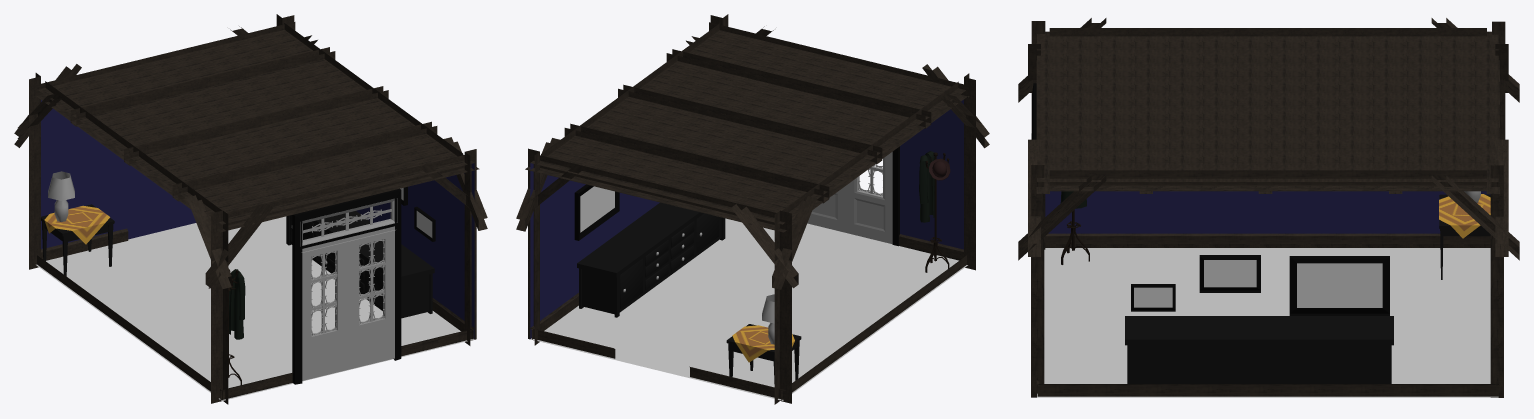
File: Hall_GEO.FBX
The picture shows the model from 3 angles, left to right: view 1: azimuth 30°, elevation 25°; view 2: azimuth 150°, elevation 25°; view 3: azimuth 270°, elevation 25°; orthographic projection. The views are drawn at different scales.
Visible parts, largest first — view 1: Hall_GEO, Vigas_Hall, Door_Hall, Cajonera_002, Mesa_005_GEO, Abrigo_GEO, Lampara_mesa_GEO, Cuadros_Hall_GEO; view 2: Hall_GEO, Vigas_Hall, Cajonera_002, Door_Hall, Cuadros_Hall_GEO, Mesa_005_GEO, Abrigo_GEO, Cajonera_002_01_TRG, Perchero_GEO, Lampara_mesa_GEO; view 3: Hall_GEO, Vigas_Hall, Cajonera_002, Cuadros_Hall_GEO, Mesa_005_GEO.
Boxes of the visible parts, left/top/right/bottom form: Hall_GEO: left=36, top=29, right=474, bottom=400; Vigas_Hall: left=14, top=14, right=487, bottom=404; Door_Hall: left=292, top=188, right=401, bottom=384; Cajonera_002: left=286, top=211, right=434, bottom=318; Mesa_005_GEO: left=41, top=204, right=114, bottom=276; Abrigo_GEO: left=229, top=269, right=245, bottom=339; Lampara_mesa_GEO: left=48, top=171, right=74, bottom=221; Cuadros_Hall_GEO: left=400, top=186, right=435, bottom=241; Hall_GEO: left=530, top=30, right=967, bottom=400; Vigas_Hall: left=516, top=14, right=989, bottom=404; Cajonera_002: left=577, top=202, right=725, bottom=317; Door_Hall: left=807, top=146, right=899, bottom=246; Cuadros_Hall_GEO: left=574, top=184, right=619, bottom=240; Mesa_005_GEO: left=726, top=324, right=801, bottom=383; Abrigo_GEO: left=919, top=151, right=934, bottom=222; Cajonera_002_01_TRG: left=620, top=258, right=642, bottom=308; Perchero_GEO: left=925, top=152, right=949, bottom=272; Lampara_mesa_GEO: left=762, top=294, right=774, bottom=344; Hall_GEO: left=1037, top=31, right=1498, bottom=397; Vigas_Hall: left=1018, top=18, right=1519, bottom=397; Cajonera_002: left=1125, top=316, right=1393, bottom=383; Cuadros_Hall_GEO: left=1131, top=255, right=1389, bottom=315; Mesa_005_GEO: left=1439, top=194, right=1490, bottom=279.
Size of the model in its own units: 490 by 633 by 324.
